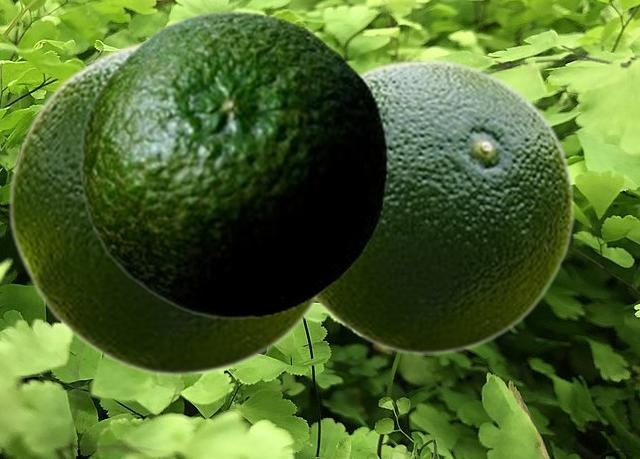calamansi: (7, 38, 316, 375), (79, 9, 387, 319), (312, 58, 575, 354)
